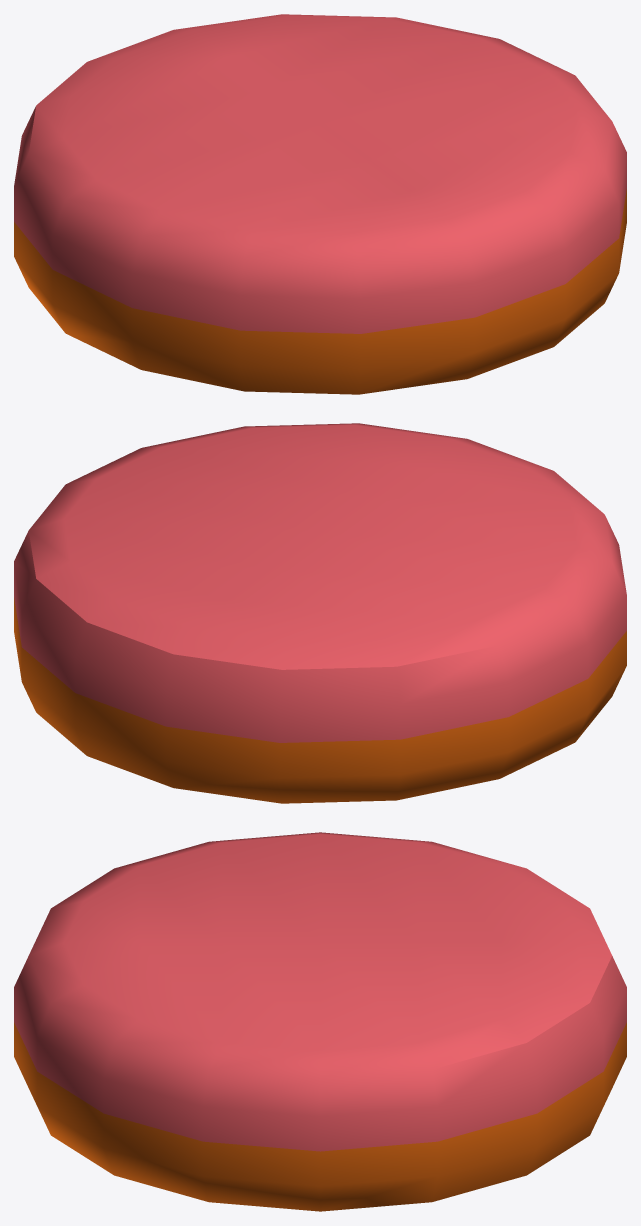
The model's file is Burger.fbx.
The picture shows the model from 3 angles, top to bottom: view 1: azimuth 30°, elevation 25°; view 2: azimuth 150°, elevation 25°; view 3: azimuth 270°, elevation 25°; orthographic projection.
Visible parts, largest first — view 1: food_ingredient_burger_uncooked; view 2: food_ingredient_burger_uncooked; view 3: food_ingredient_burger_uncooked.
Boxes of the visible parts, bbox=[...] form: food_ingredient_burger_uncooked: bbox=[14, 14, 626, 394]; food_ingredient_burger_uncooked: bbox=[14, 423, 626, 803]; food_ingredient_burger_uncooked: bbox=[14, 832, 626, 1211].
Bounding box in the file's own units: 70 × 20 × 70.
